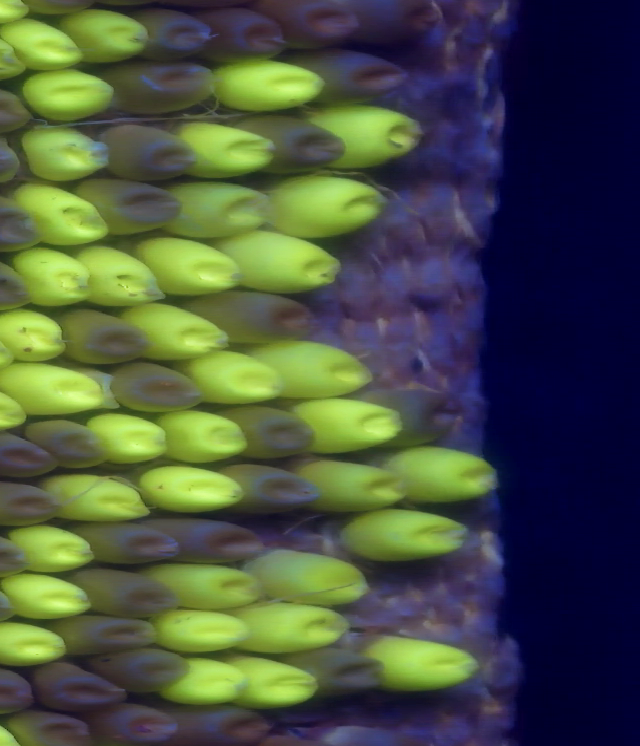fluorescent: (238, 548, 374, 614), (218, 226, 342, 297), (378, 444, 502, 510), (129, 235, 248, 300), (305, 107, 423, 171), (335, 512, 468, 567), (364, 633, 483, 694), (37, 463, 154, 525), (263, 178, 381, 239), (10, 182, 118, 248), (250, 341, 378, 396), (284, 460, 407, 516), (209, 61, 334, 116), (174, 119, 278, 184), (120, 298, 232, 358), (231, 602, 351, 658), (287, 399, 406, 455), (0, 359, 109, 419), (144, 560, 269, 612), (165, 182, 271, 240), (177, 351, 284, 406), (77, 245, 170, 308), (3, 521, 99, 582), (18, 125, 112, 187), (225, 652, 323, 711), (154, 401, 247, 463), (136, 460, 244, 512), (9, 248, 101, 306), (146, 608, 255, 655), (54, 13, 153, 64), (0, 569, 94, 621), (83, 410, 173, 464), (19, 71, 119, 118), (0, 307, 74, 366), (161, 655, 246, 706), (0, 17, 85, 68), (0, 622, 69, 667), (0, 1, 31, 22)
nonfluorescent: (188, 283, 319, 345), (78, 170, 181, 238), (236, 112, 343, 175), (359, 386, 467, 446), (98, 121, 200, 184), (52, 302, 154, 365), (105, 61, 217, 117), (220, 406, 323, 465), (222, 457, 325, 515), (71, 565, 183, 617), (71, 517, 181, 569), (157, 514, 266, 566), (201, 4, 292, 66), (31, 659, 128, 716), (303, 51, 412, 101), (287, 650, 391, 702), (349, 1, 440, 60), (106, 360, 204, 413), (95, 643, 191, 696), (130, 10, 219, 65), (21, 416, 110, 471), (50, 609, 160, 653), (174, 704, 284, 746), (272, 1, 358, 54), (93, 700, 179, 746), (0, 428, 68, 479), (3, 712, 98, 746), (0, 476, 56, 524), (0, 191, 38, 257), (0, 80, 35, 139), (0, 250, 32, 314), (0, 663, 35, 720), (0, 531, 32, 581)
